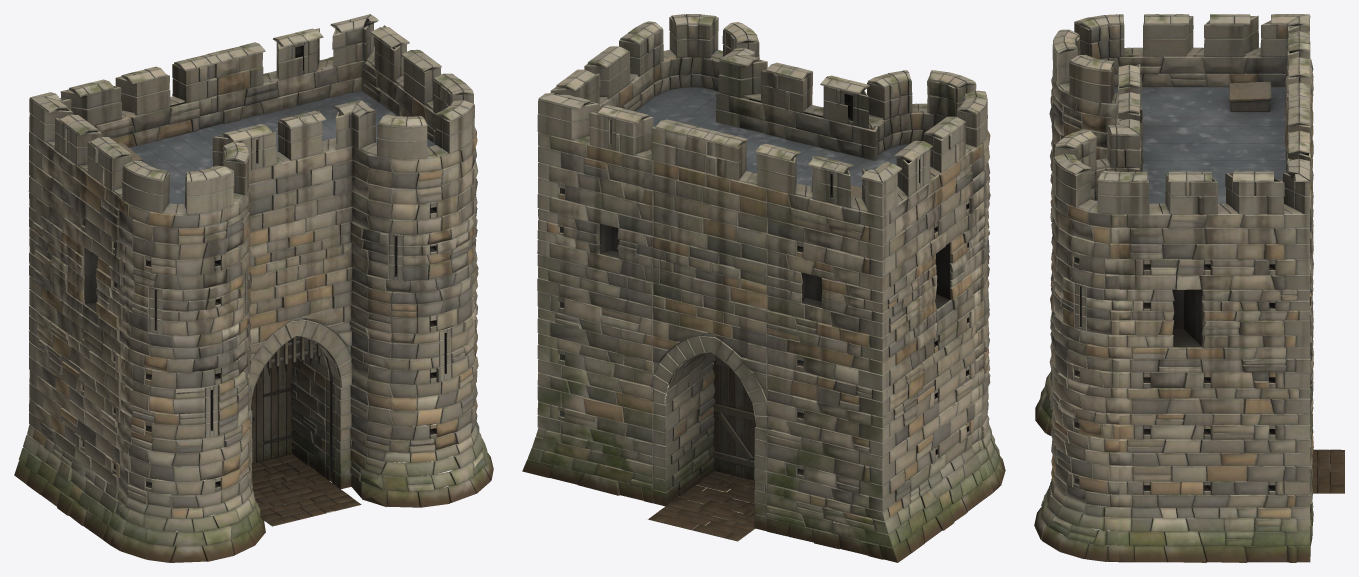
File: gatehouse.glb
3 views of the same model, side by side, from view 1: azimuth 30°, elevation 25°; view 2: azimuth 150°, elevation 25°; view 3: azimuth 270°, elevation 25° (orthographic).
Visible parts, largest first — view 1: gatehouse_LOD0; view 2: gatehouse_LOD0; view 3: gatehouse_LOD0.
Part boxes in pixels (x1,y1,x2,y2): gatehouse_LOD0: (14, 14, 493, 562); gatehouse_LOD0: (522, 14, 1005, 562); gatehouse_LOD0: (1034, 14, 1344, 562).
Size of what is drawn, in the model's own units: 13.28 by 12.73 by 9.51.
Materials: 1 (1 with a texture image).
